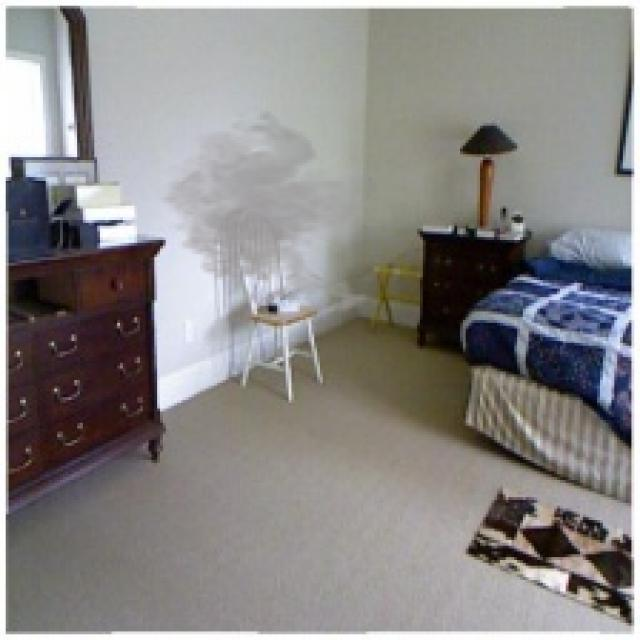Smoke: (151, 109, 403, 318)
